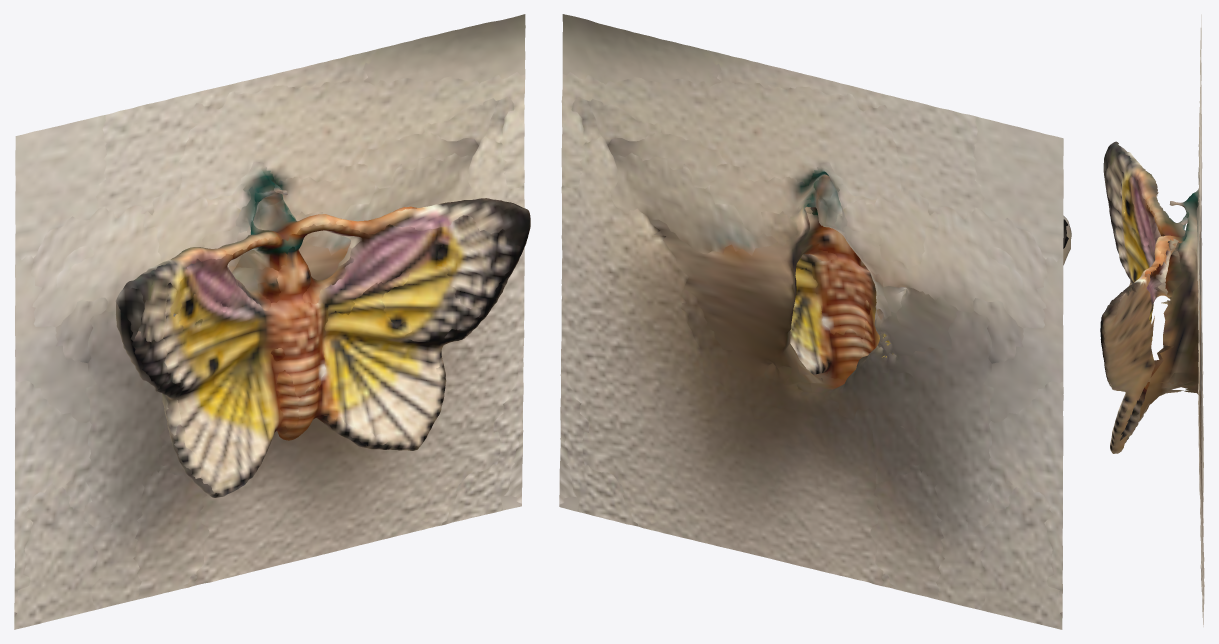
Rendered from butterfly_edb0d24e.glb.
The picture shows the model from 3 angles, left to right: view 1: azimuth 30°, elevation 25°; view 2: azimuth 150°, elevation 25°; view 3: azimuth 270°, elevation 25°; orthographic projection. The views are drawn at different scales.
Parts seen in each view (by area): view 1: Object_2; view 2: Object_2; view 3: Object_2.
Part boxes in pixels (box(x1,y1,x2,y2)): Object_2: box(14, 14, 530, 629); Object_2: box(559, 14, 1071, 629); Object_2: box(1100, 14, 1204, 626).
Bounding box in the file's own units: 0.1602 × 0.1492 × 0.0343.
1 material, 1 textured.
